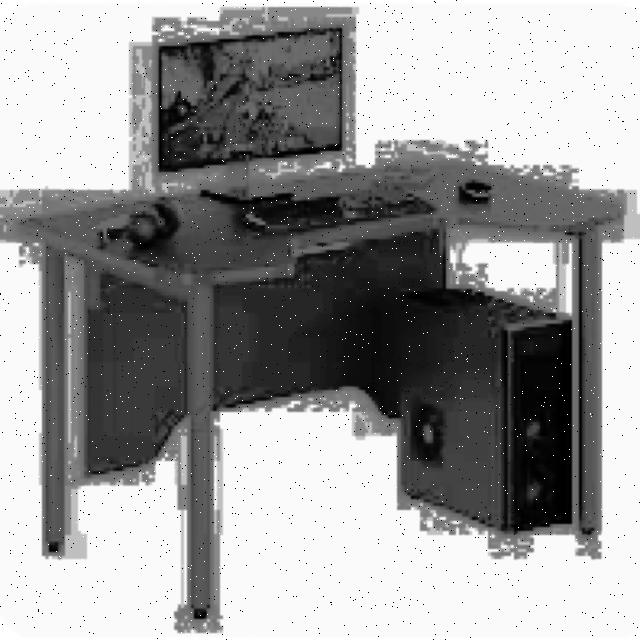table: (13, 158, 624, 619)
